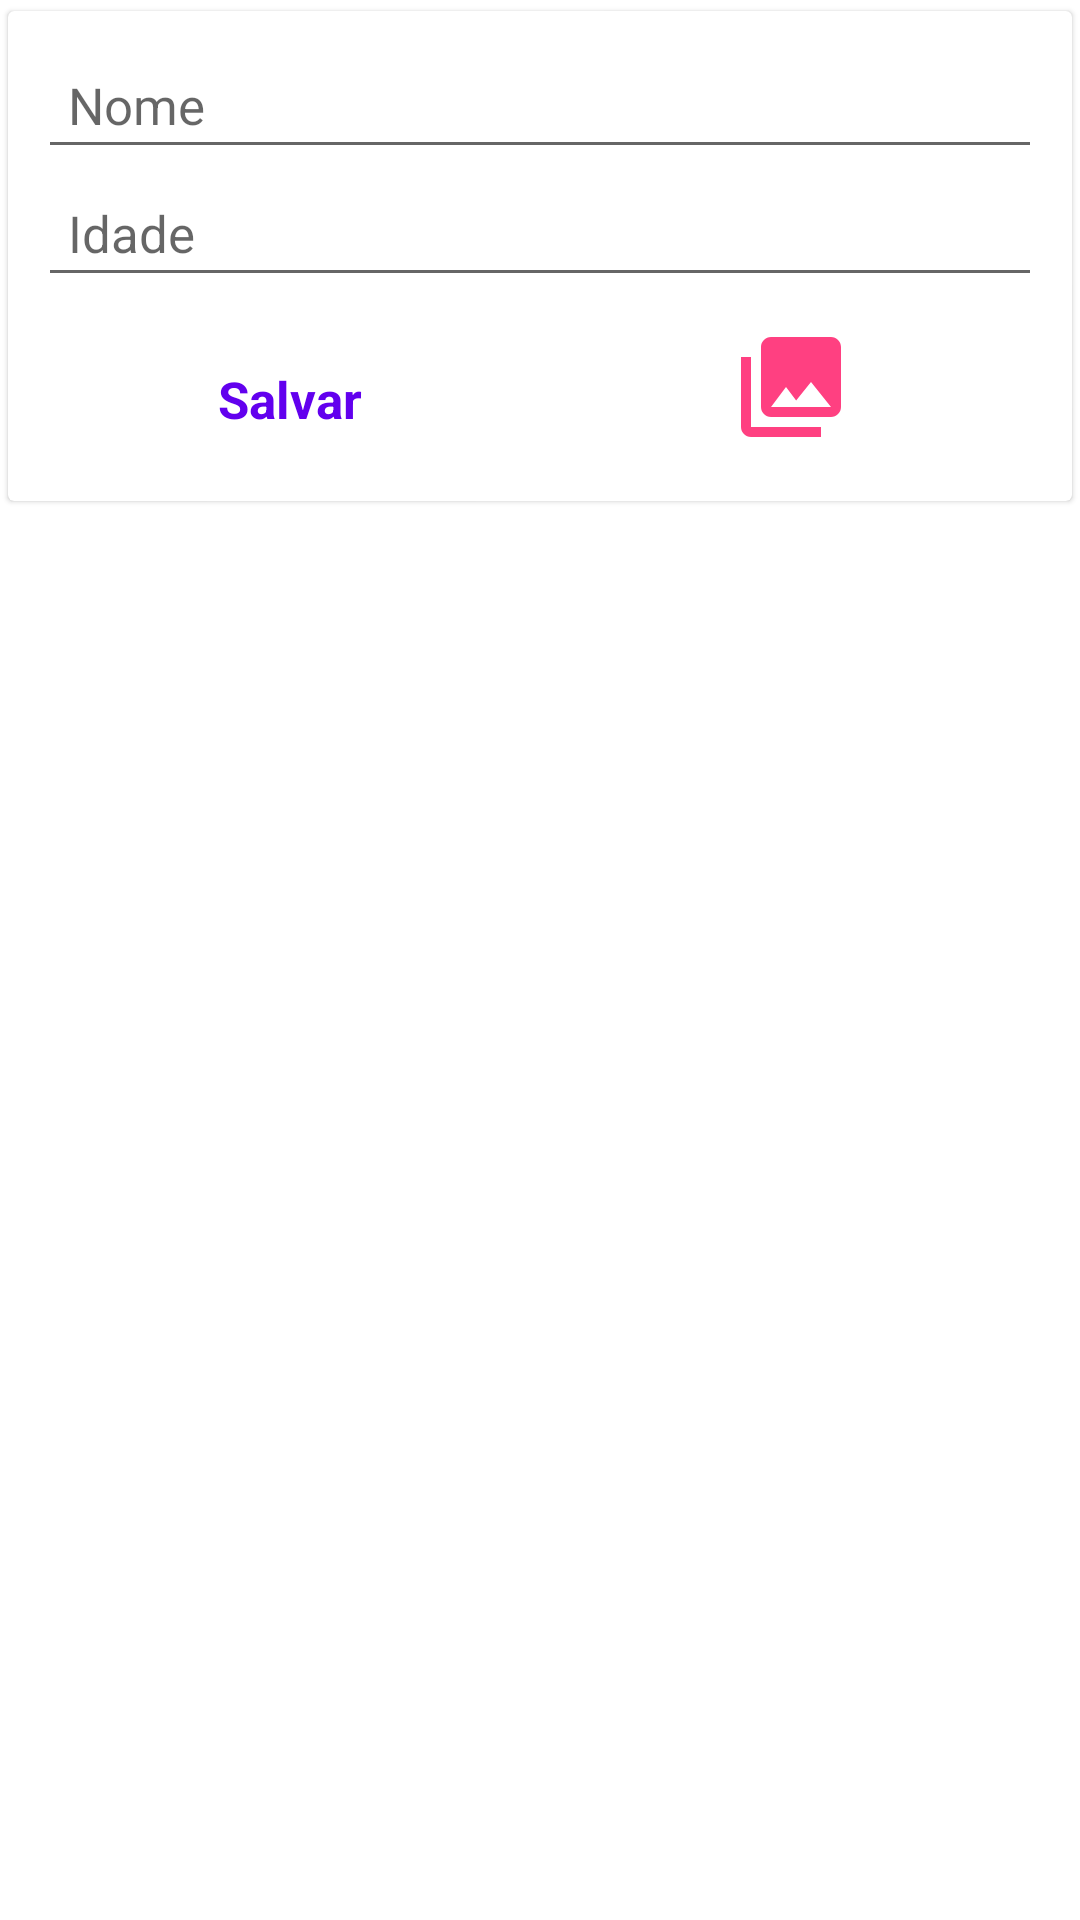

Named icons in this screenshot (1080px x 1920px) and their bounding boxes, (x1, y1, x2, y2):
galeria: (741, 337, 841, 437)
